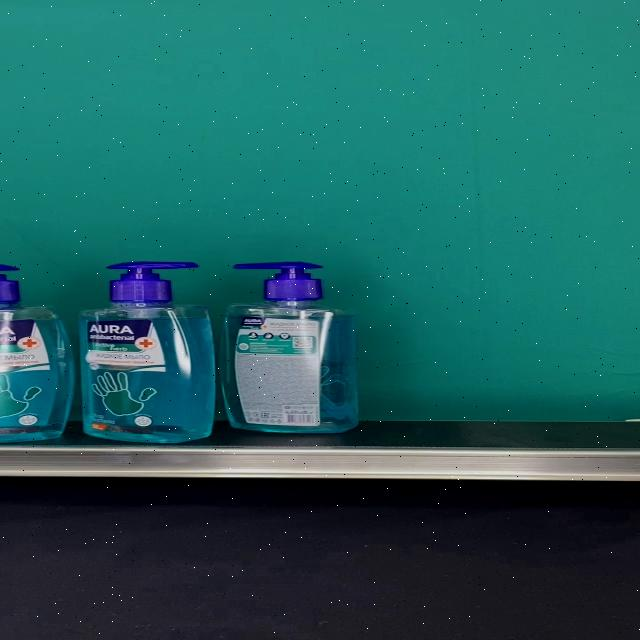Bottle: (78, 260, 215, 442), (218, 261, 358, 434)
Cap: (107, 261, 198, 302), (230, 261, 323, 301)
